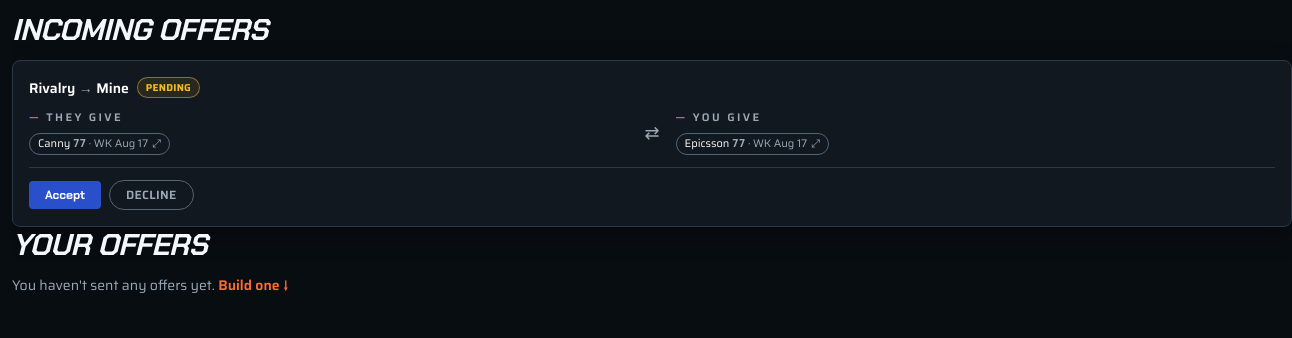
TradeInbox › surfaces the action's error and doesn't refresh
The width and height of the screenshot is (1292, 338).
Click the button "Accept": (65, 195) 29,181 -> 101,209
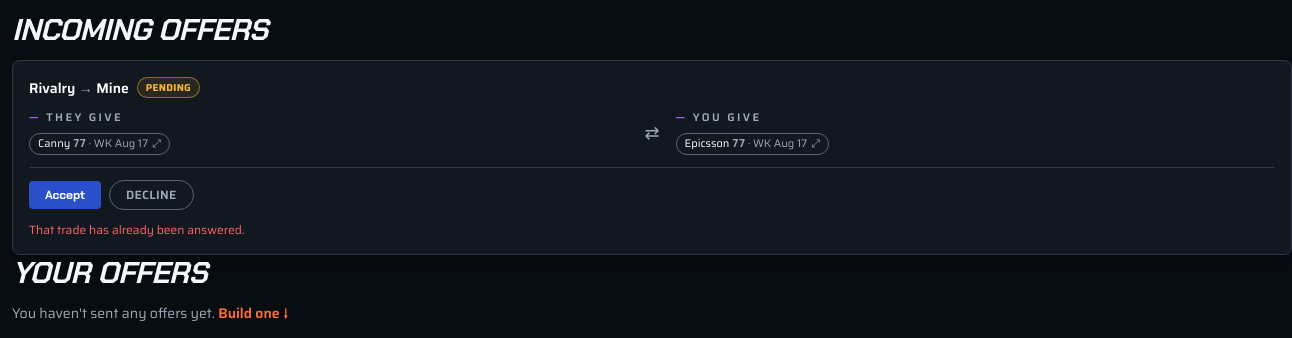
Now the text "That trade has already been answered." is shown, box 29,220 -> 244,239
